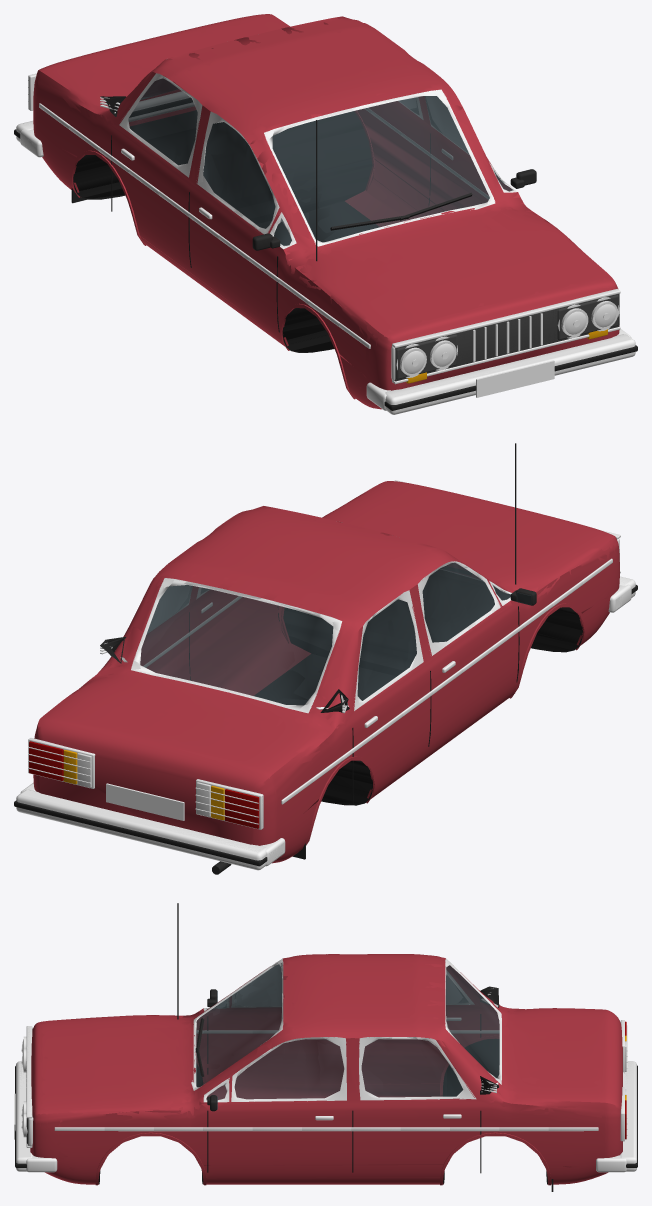
The model's file is vaz2106.glb.
3 views of the same model, one above another, from view 1: azimuth 30°, elevation 25°; view 2: azimuth 150°, elevation 25°; view 3: azimuth 270°, elevation 25° (orthographic). The views are drawn at different scales.
Visible parts, largest first — view 1: LOD_hi, LOD0; view 2: LOD_hi, LOD0; view 3: LOD_hi, LOD0.
Boxes of the visible parts, <box> form: LOD_hi: <box>14,14,637,414</box>; LOD0: <box>16,14,635,408</box>; LOD_hi: <box>14,443,637,874</box>; LOD0: <box>16,444,629,874</box>; LOD_hi: <box>14,903,637,1191</box>; LOD0: <box>14,954,636,1184</box>.
Size of what is drawn, in the model's own units: 1.88 by 1.59 by 4.39.
